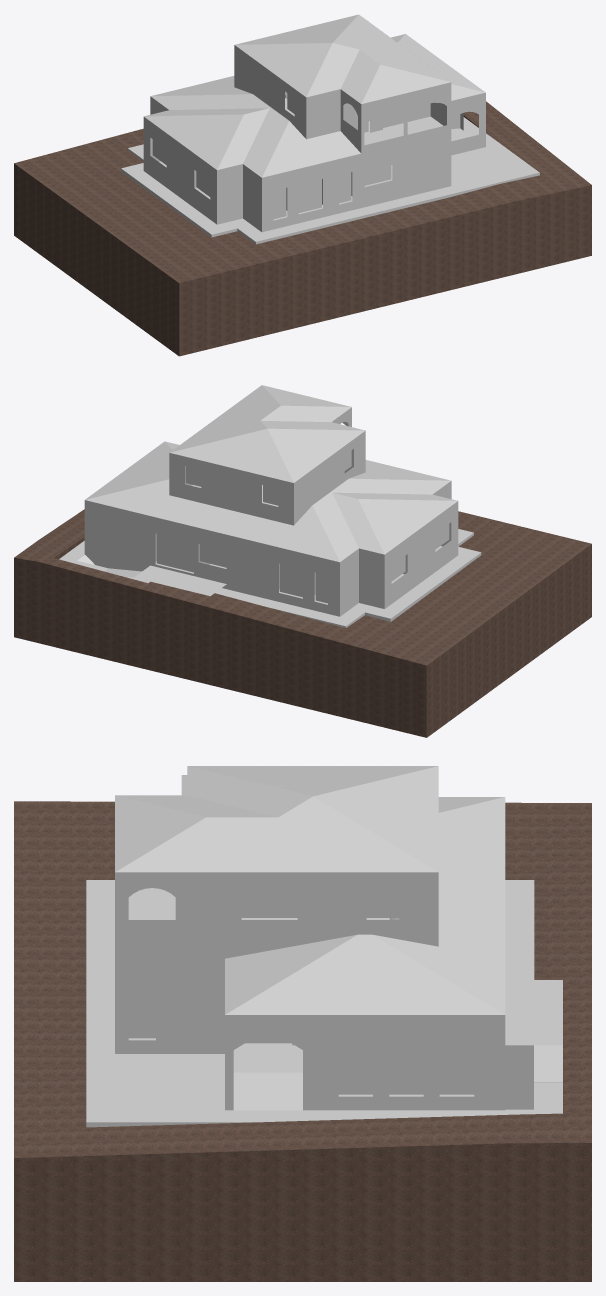
File: conceptual.glb
3 views of the same model, one above another, from view 1: azimuth 30°, elevation 25°; view 2: azimuth 150°, elevation 25°; view 3: azimuth 270°, elevation 25° (orthographic). The views are drawn at different scales.
Visible parts, largest first — view 1: Model; view 2: Model; view 3: Model.
Boxes of the visible parts, bbox=[...] form: Model: bbox=[14, 14, 591, 356]; Model: bbox=[14, 385, 591, 737]; Model: bbox=[14, 766, 591, 1281].
Size of the model in its own units: 28.85 by 12.87 by 20.
2 materials, 1 textured.
